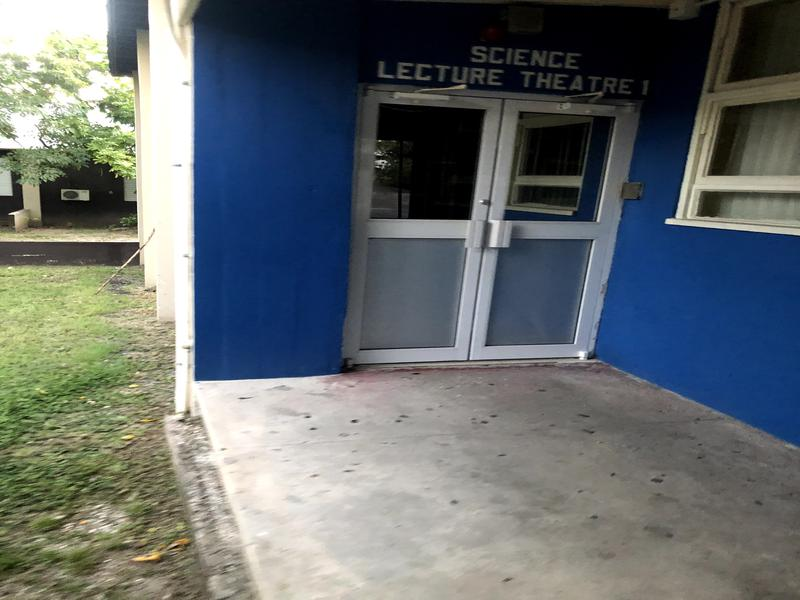18.0051836_-76.7497262_pclt1: (328, 21, 661, 368)
